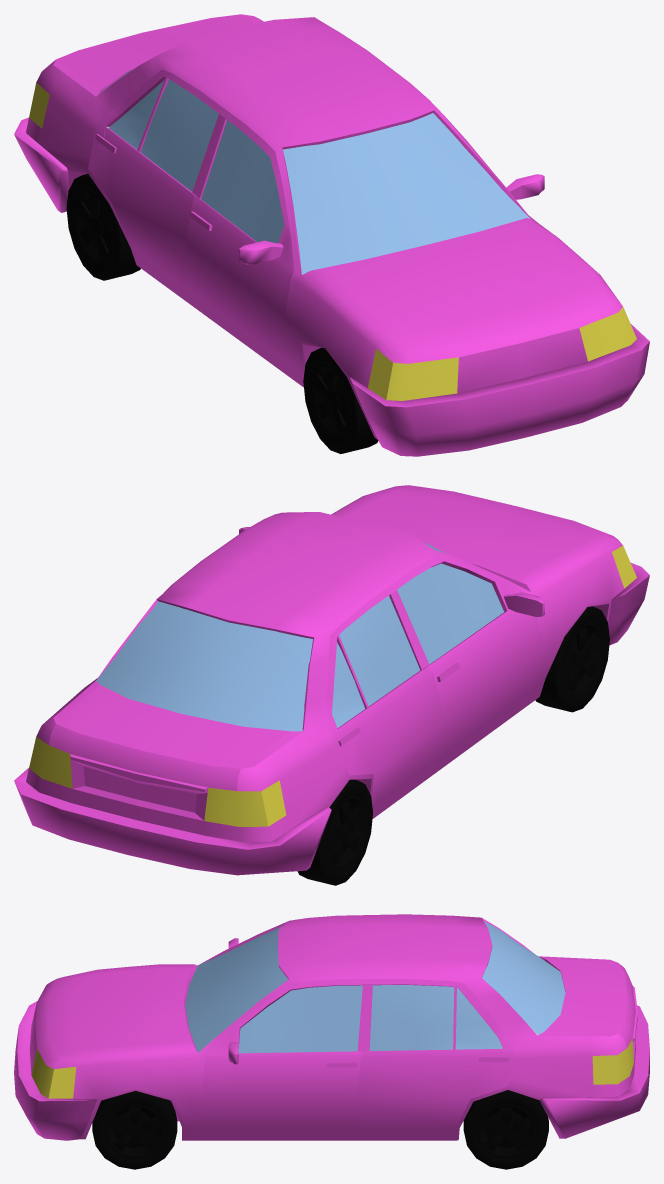
Rendered from car5.glb.
3 renders of one model, top to bottom at view 1: azimuth 30°, elevation 25°; view 2: azimuth 150°, elevation 25°; view 3: azimuth 270°, elevation 25°, orthographic. The views are drawn at different scales.
Parts seen in each view (by area): view 1: Cube.022, window, window.002, window.001, wheel.003, wheel.002; view 2: Cube.022, window, window.002, window.001, wheel.003, wheel.002; view 3: Cube.022, window, window.002, window.001, wheel.001, wheel.
Part boxes in pixels (box(x1,y1,x2,y2)): Cube.022: box(14, 14, 649, 456); window: box(98, 70, 530, 274); window.002: box(109, 79, 218, 191); window.001: box(201, 120, 284, 243); wheel.003: box(303, 347, 378, 453); wheel.002: box(66, 173, 140, 280); Cube.022: box(14, 485, 649, 875); window: box(96, 543, 445, 731); window.002: box(332, 595, 420, 727); window.001: box(397, 563, 503, 664); wheel.003: box(535, 606, 609, 712); wheel.002: box(297, 779, 372, 885); Cube.022: box(14, 914, 649, 1140); window: box(185, 921, 565, 1052); window.002: box(369, 985, 502, 1051); window.001: box(238, 985, 362, 1053); wheel.001: box(92, 1090, 177, 1169); wheel: box(463, 1090, 548, 1169).
Size of the model in its own units: 1.92 by 1.38 by 4.43.
